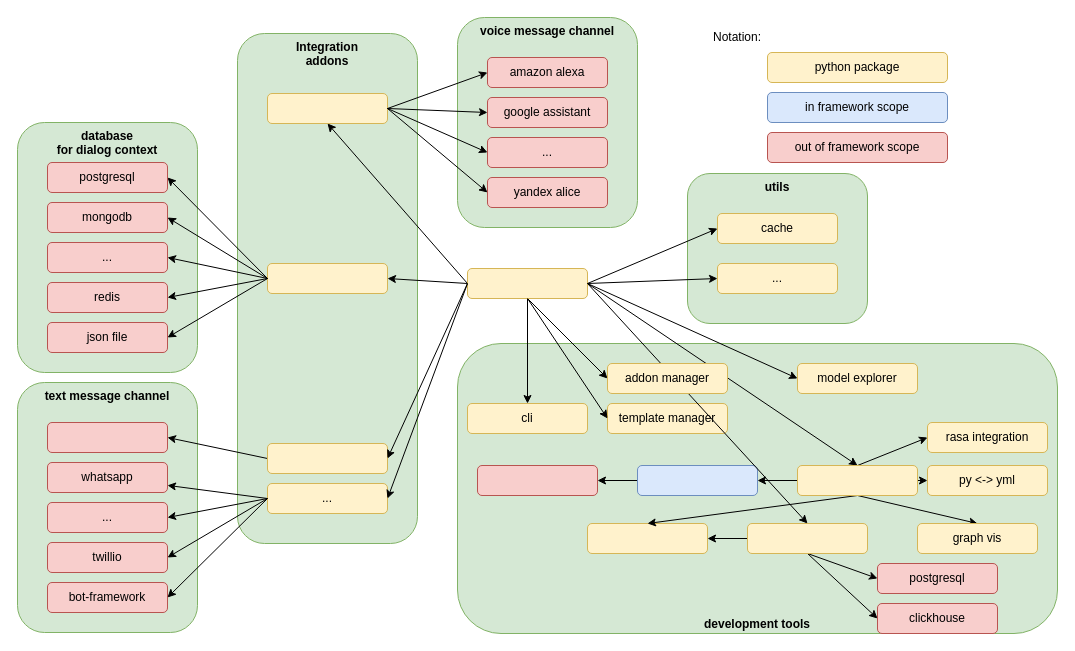
Image size: 1075x651. Some labels were removed from this diagram. The centre of each missing label's shape, as x and y in pixels:
"dashboard" belongs at [647,538].
"db_connector" belongs at [327,278].
"df designer" belongs at [697,480].
"dialog flow engine" belongs at [527,283].
"py <-> json" belongs at [857,480].
"statistic collector" belongs at [807,538].
"telegram" belongs at [107,437].
"telegram_connector" belongs at [327,458].
"voice connector" belongs at [327,108].
"vs code" belongs at [537,480].
